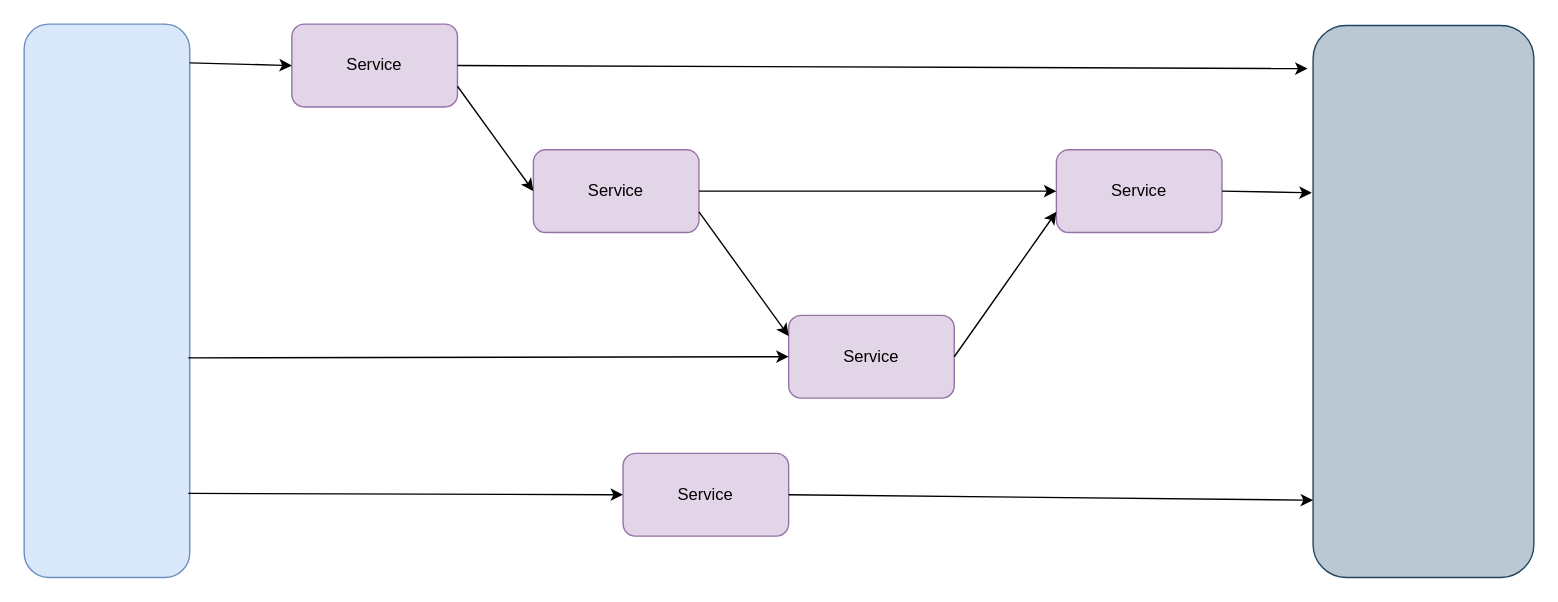
This 1558x602 diagram has some shape labels left out. The centre of each missing label's shape, as x and y in pixels:
"Repositories" goes at point (1423, 301).
"UI" goes at point (106, 300).
